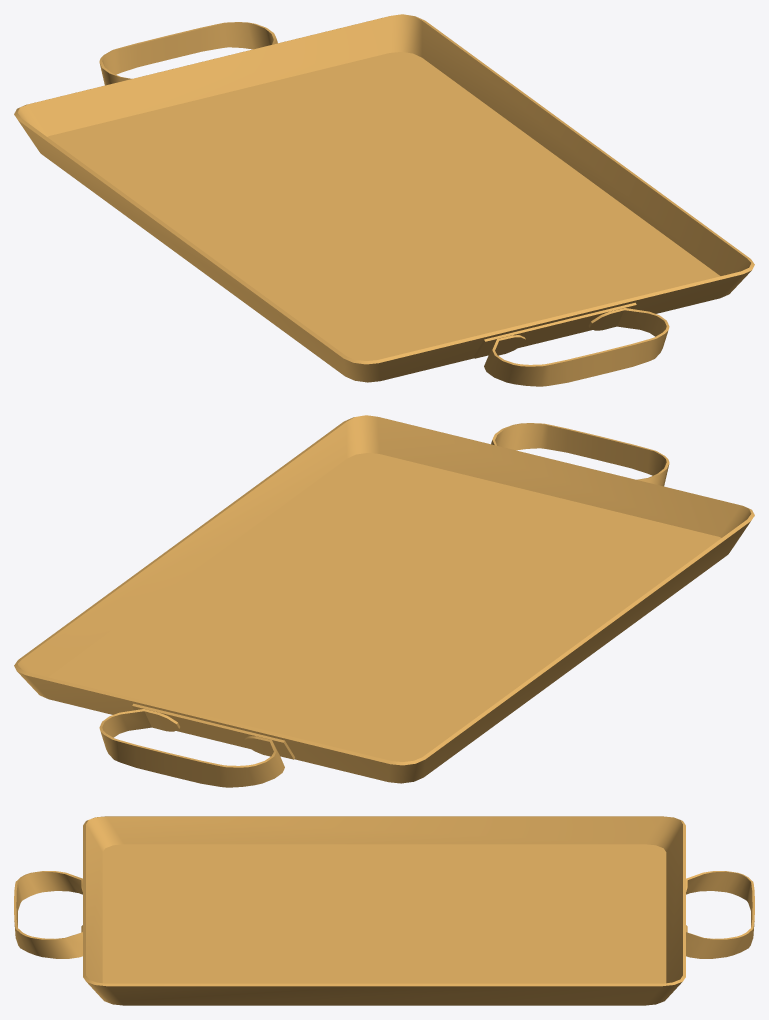
File: plate2.fbx
The picture shows the model from 3 angles, top to bottom: view 1: azimuth 30°, elevation 25°; view 2: azimuth 150°, elevation 25°; view 3: azimuth 270°, elevation 25°; orthographic projection. The views are drawn at different scales.
Parts seen in each view (by area): view 1: Plane_Plate_0; view 2: Plane_Plate_0; view 3: Plane_Plate_0.
Part boxes in pixels (box(x1,y1,x2,y2)): Plane_Plate_0: box(14, 14, 754, 386); Plane_Plate_0: box(14, 415, 754, 787); Plane_Plate_0: box(14, 816, 754, 1005).
Bounding box in the file's own units: 108 × 7.76 × 199.
